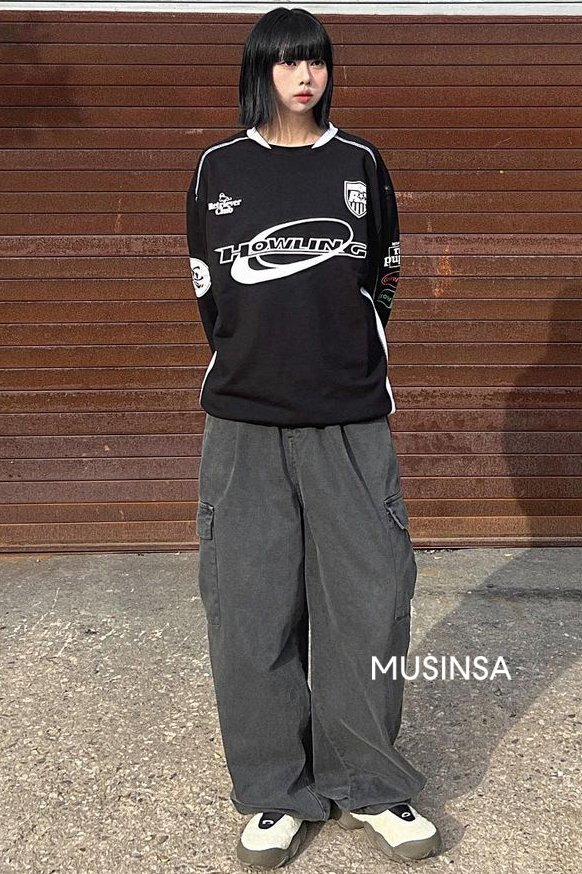Pants: (196, 406, 425, 812)
Shoes: (236, 808, 454, 871)
Top: (164, 122, 414, 427)
